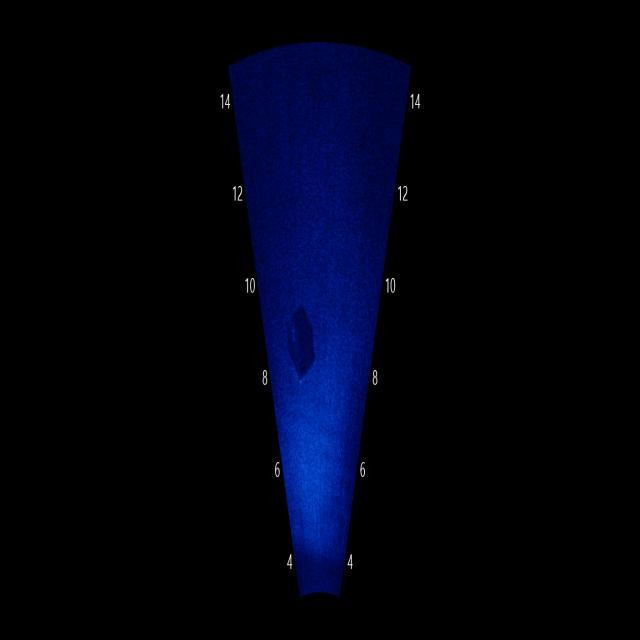square: (281, 293, 322, 402)
